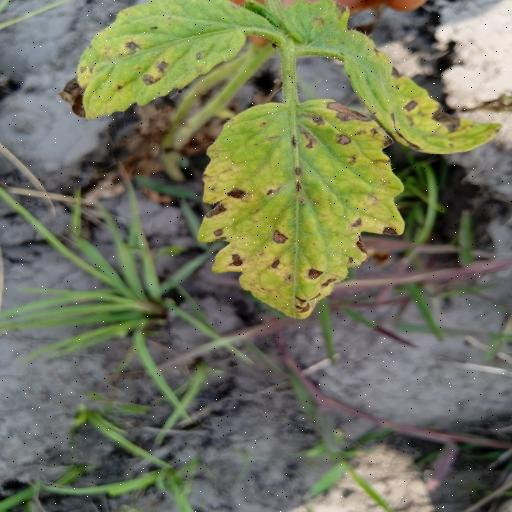Tomato_Brown_Spots: (196, 95, 413, 321), (65, 0, 266, 120)
